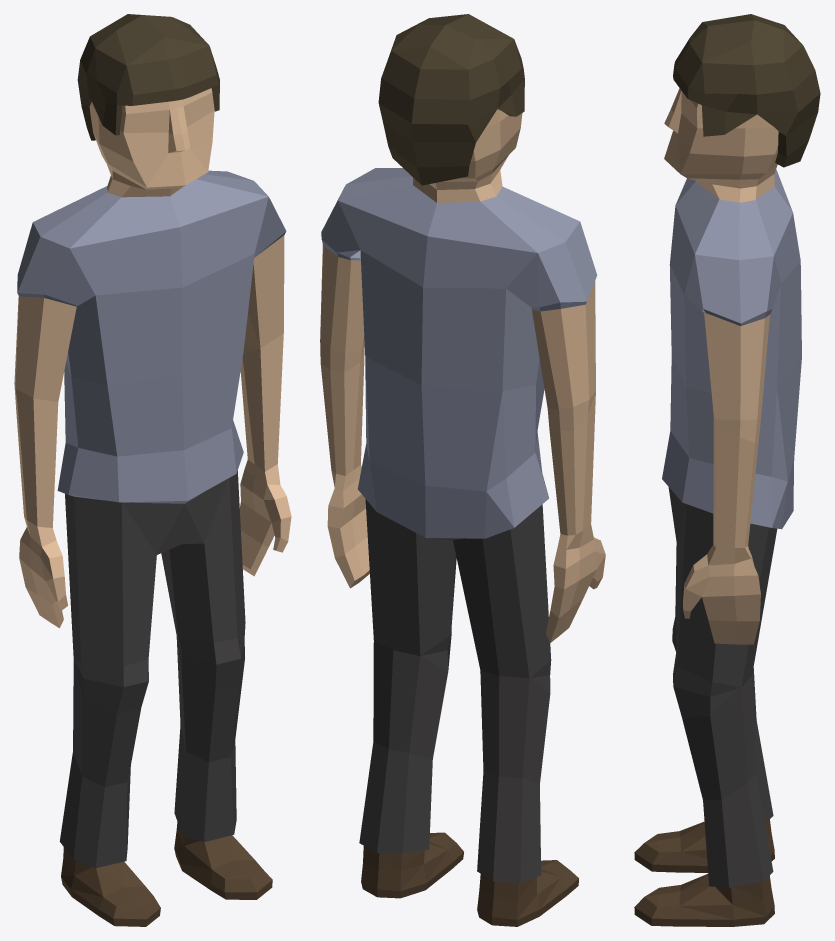
Rendered from Male_Standing.glb.
The picture shows the model from 3 angles, left to right: view 1: azimuth 30°, elevation 25°; view 2: azimuth 150°, elevation 25°; view 3: azimuth 270°, elevation 25°; orthographic projection. The views are drawn at different scales.
Visible parts, largest first — view 1: Male_Standing, Male_Hairstyle_3; view 2: Male_Standing, Male_Hairstyle_3; view 3: Male_Standing, Male_Hairstyle_3.
Part boxes in pixels (x1=…): Male_Standing: x1=14, y1=88, x2=291, y2=926; Male_Hairstyle_3: x1=77, y1=14, x2=219, y2=140; Male_Standing: x1=320, y1=109, x2=605, y2=926; Male_Hairstyle_3: x1=378, y1=14, x2=524, y2=185; Male_Standing: x1=634, y1=88, x2=801, y2=926; Male_Hairstyle_3: x1=673, y1=14, x2=820, y2=167.
Bounding box in the file's own units: 1.24 × 3.88 × 0.754.
